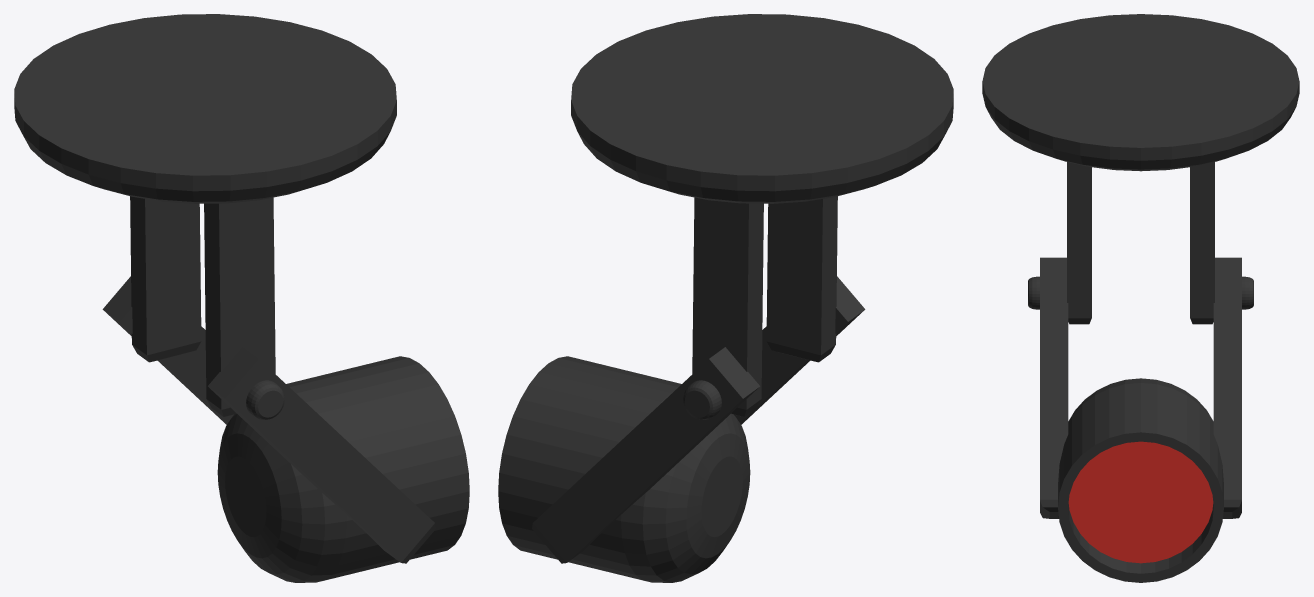
The model's file is Spotlights.fbx.
3 views of the same model, side by side, from view 1: azimuth 30°, elevation 25°; view 2: azimuth 150°, elevation 25°; view 3: azimuth 270°, elevation 25° (orthographic). The views are drawn at different scales.
Parts seen in each view (by area): view 1: Cylinder.001, Cylinder, Cube.003, Cube.002, Cylinder.002; view 2: Cylinder.001, Cylinder, Cube.003, Cube.002, Cylinder.002; view 3: Cylinder.001, Cylinder, Cube.002, Cube.003, Cylinder.002.
Boxes of the visible parts, x1,y1,x2,y2 form: Cylinder.001: (14, 14, 396, 203); Cylinder: (217, 356, 469, 582); Cube.003: (130, 196, 275, 416); Cube.002: (102, 276, 435, 563); Cylinder.002: (246, 380, 284, 419); Cylinder.001: (571, 14, 953, 203); Cylinder: (498, 356, 750, 582); Cube.003: (692, 196, 837, 416); Cube.002: (532, 276, 865, 563); Cylinder.002: (683, 380, 721, 419); Cylinder.001: (982, 14, 1299, 171); Cylinder: (1058, 378, 1223, 582); Cube.002: (1040, 257, 1241, 518); Cube.003: (1067, 162, 1214, 324); Cylinder.002: (1028, 276, 1253, 309).
Size of the model in its own units: 437 by 552 by 382.
